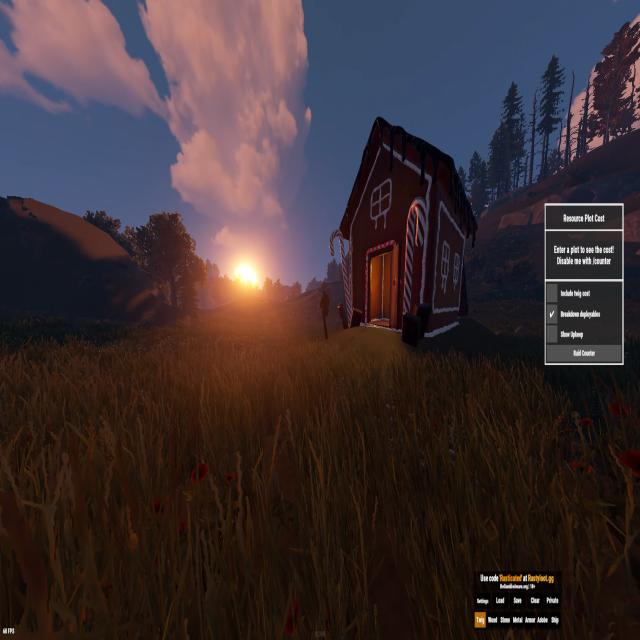Player: (318, 288, 332, 343)
